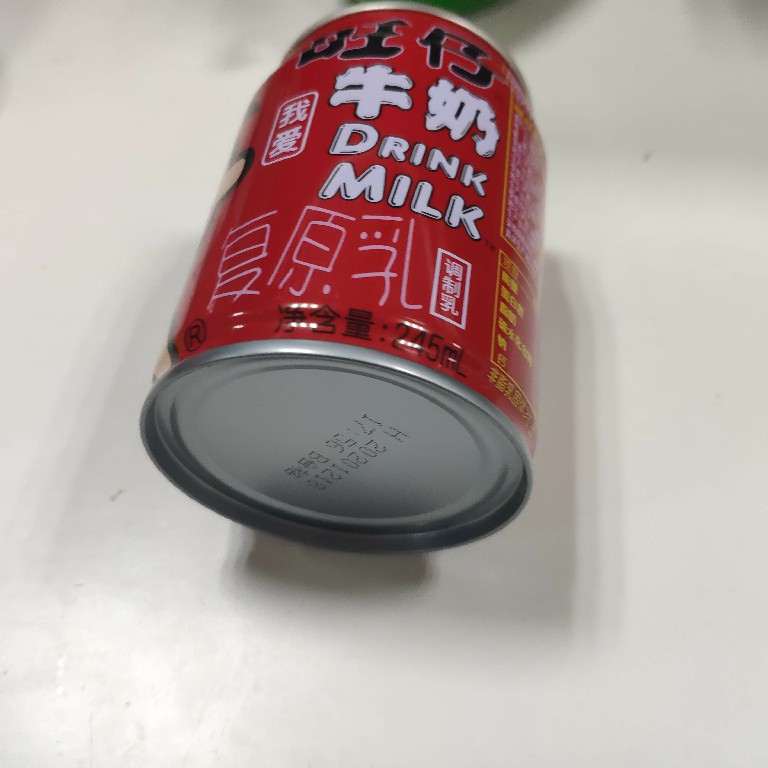can: (134, 1, 554, 558)
